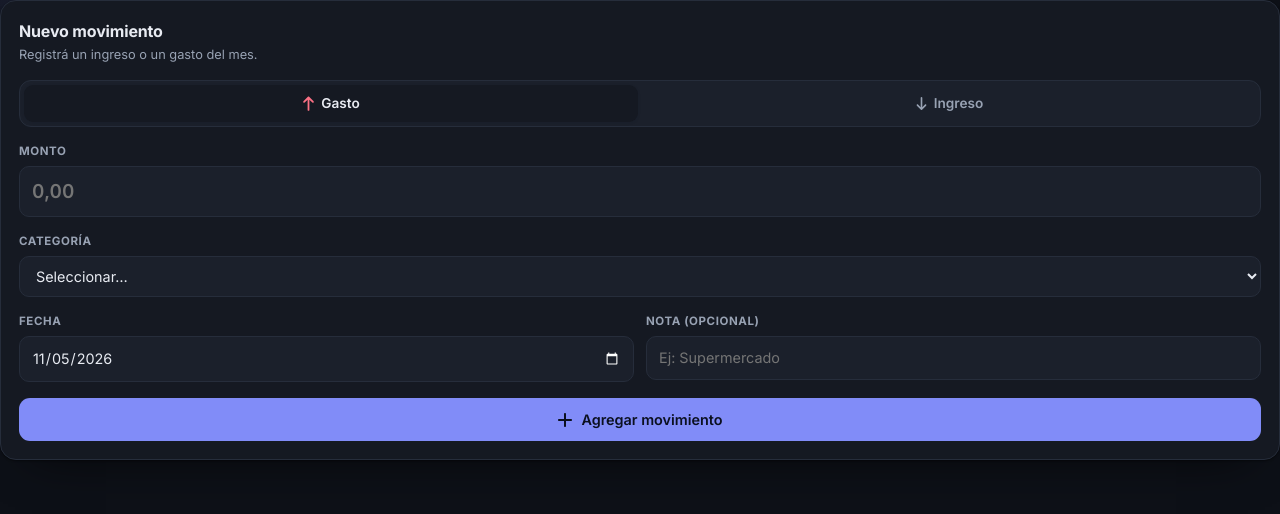
Scenario: TransactionForm › invita a crear una categoría si no hay del tipo elegido
The image size is (1280, 514).
Later steps or results of the test are not shown.
Step 1. Click the button "Ingreso" → {"x": 949, "y": 103}, box [642,85,1256,122]
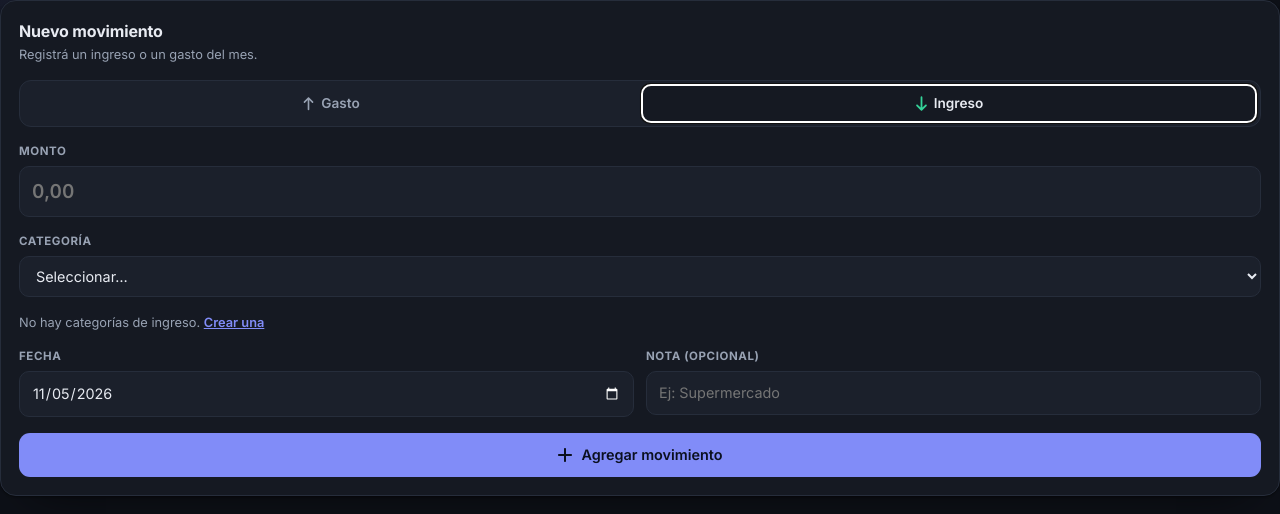
expect the text "No hay categorías de ingreso. Crear una" is shown: met, box [19,313,264,332]
